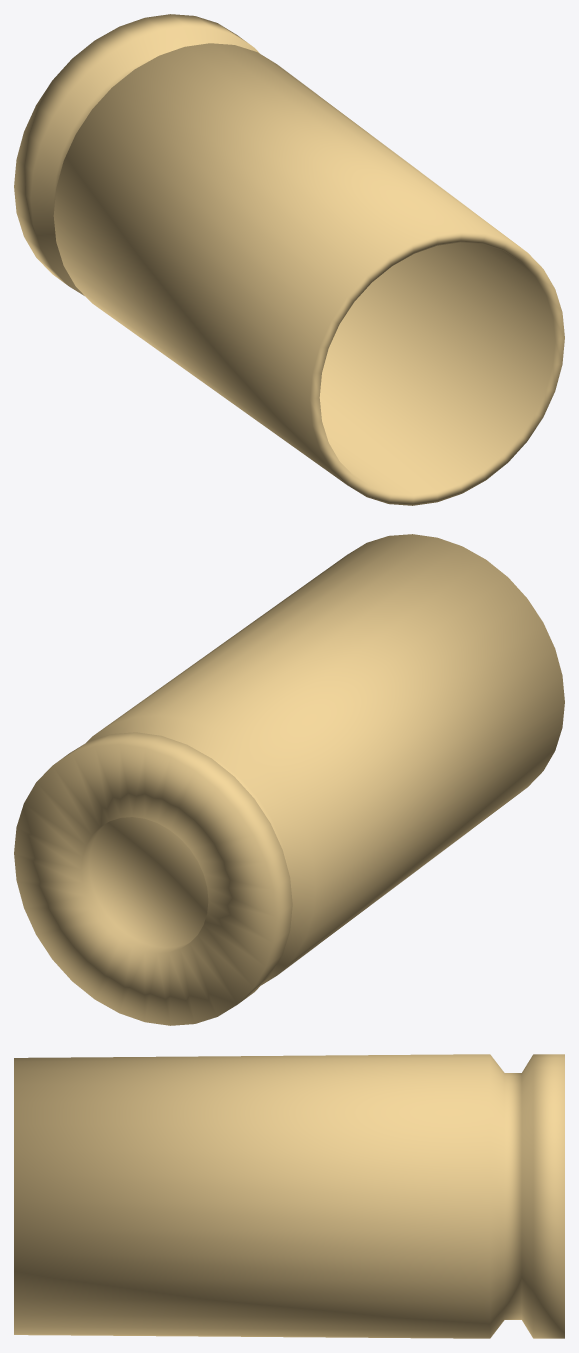
File: casing_9x19.glb
3 views of the same model, one above another, from view 1: azimuth 30°, elevation 25°; view 2: azimuth 150°, elevation 25°; view 3: azimuth 270°, elevation 25° (orthographic). The views are drawn at different scales.
Parts seen in each view (by area): view 1: casing_9x19; view 2: casing_9x19; view 3: casing_9x19.
Part boxes in pixels (x1=…): casing_9x19: x1=14, y1=14, x2=564, y2=505; casing_9x19: x1=14, y1=534, x2=564, y2=1025; casing_9x19: x1=14, y1=1054, x2=564, y2=1338.
Bounding box in the file's own units: 0.0099 × 0.0099 × 0.0192.
